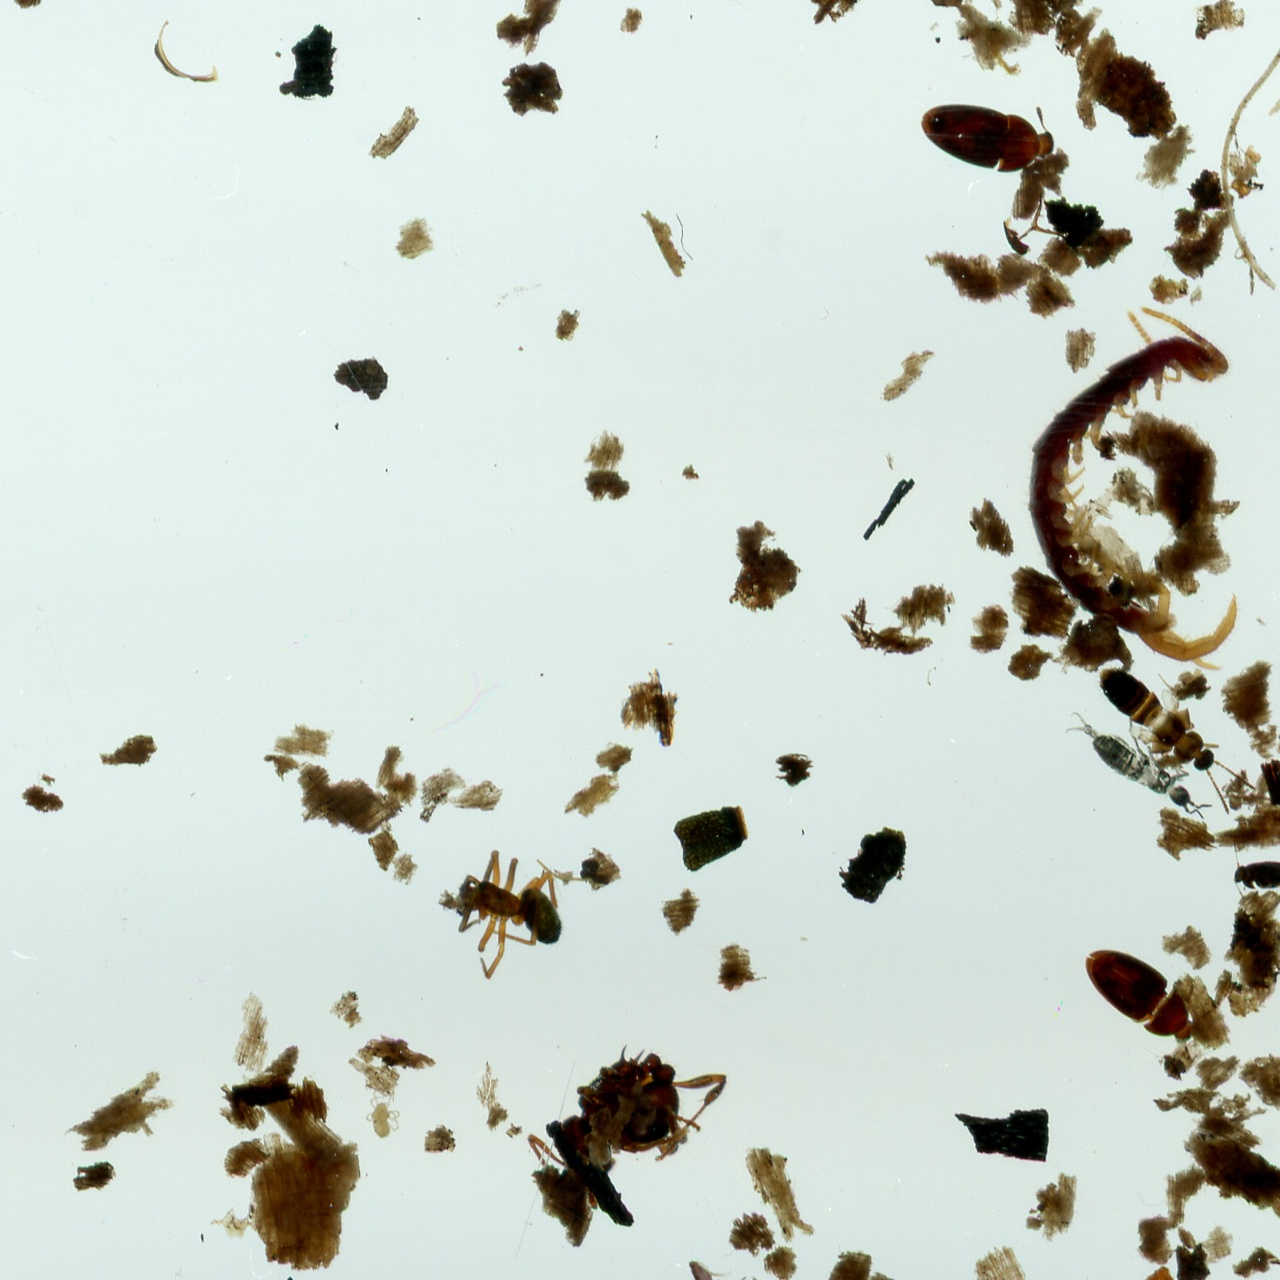arthropod: (1020, 301, 1246, 675), (1076, 647, 1273, 828), (1054, 693, 1219, 842), (1063, 922, 1219, 1071), (568, 1039, 730, 1165), (455, 845, 571, 982), (918, 101, 1057, 177), (1224, 851, 1280, 904), (365, 1088, 401, 1141), (680, 1257, 745, 1280)
